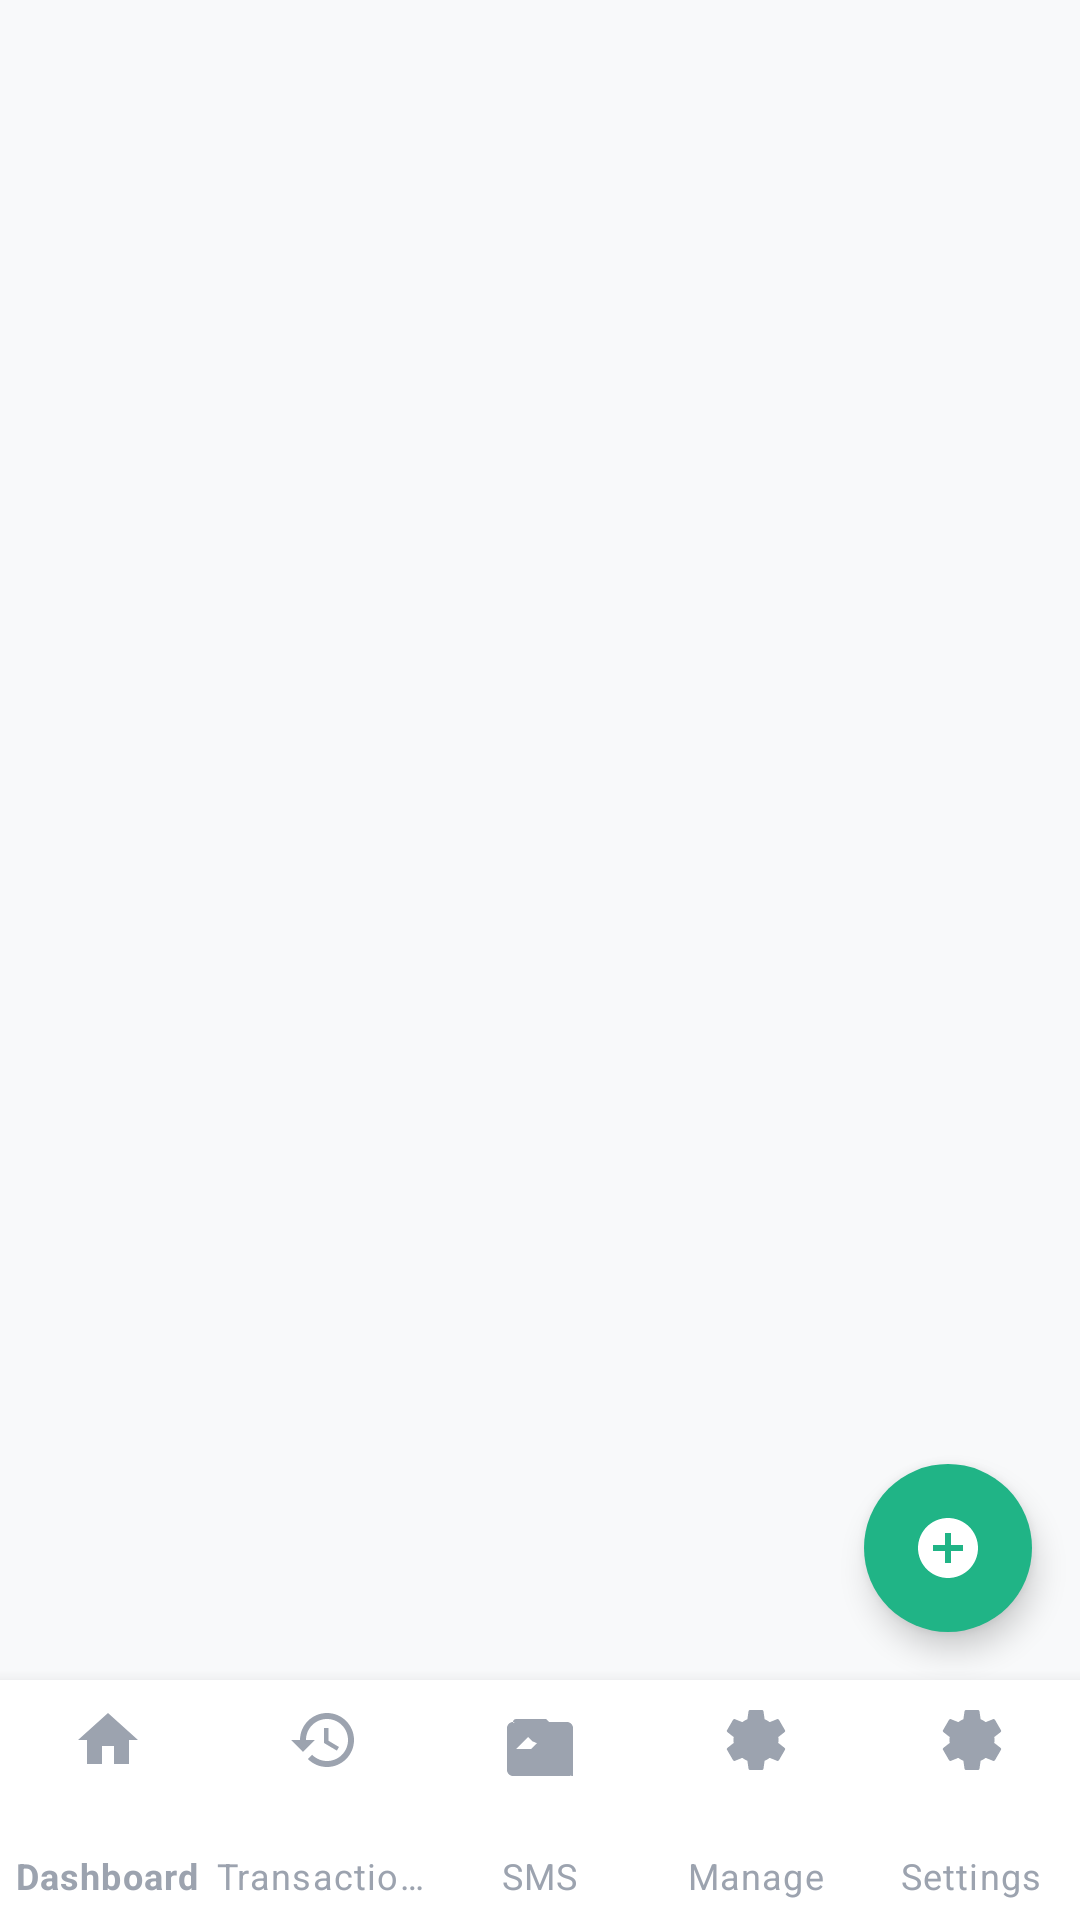

Icon click points for this 1080 × 1920 phone screenshot, format [x,y]:
Add: [948,1548]
